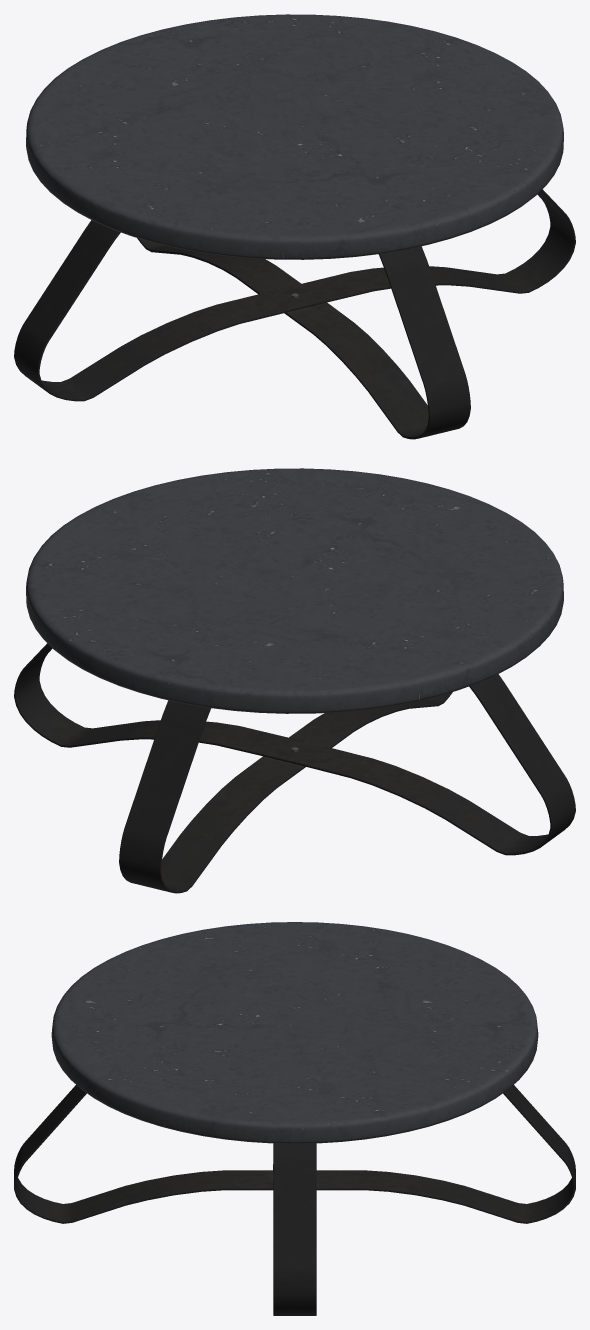
Rendered from graphite.glb.
3 views of the same model, one above another, from view 1: azimuth 30°, elevation 25°; view 2: azimuth 150°, elevation 25°; view 3: azimuth 270°, elevation 25° (orthographic). The views are drawn at different scales.
Visible parts, largest first — view 1: coffee_table_round_01; view 2: coffee_table_round_01; view 3: coffee_table_round_01.
Part boxes in pixels (left/top/right/bottom): coffee_table_round_01: left=14, top=14, right=575, bottom=439; coffee_table_round_01: left=14, top=468, right=575, bottom=893; coffee_table_round_01: left=14, top=922, right=575, bottom=1315.
Size of the model in its own units: 1.3 by 0.491 by 1.3.
Materials: 1 (1 with a texture image).
